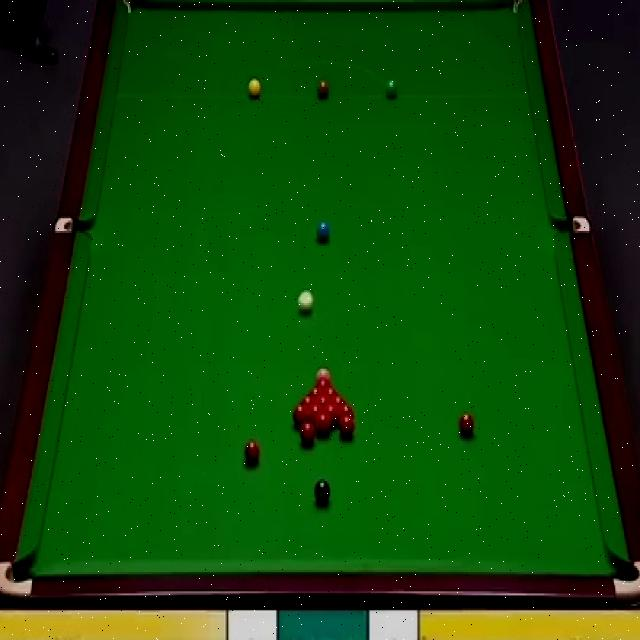black-ball: (314, 478, 331, 506)
blue-ball: (316, 220, 330, 240)
brown-ball: (316, 81, 330, 98)
green-ball: (384, 76, 399, 102)
pink-ball: (316, 368, 332, 385)
red-ball: (243, 438, 262, 466), (292, 402, 310, 428), (336, 416, 356, 439), (459, 411, 474, 438), (299, 420, 316, 443), (322, 405, 340, 424), (316, 412, 331, 434), (338, 404, 354, 424), (330, 393, 347, 409), (300, 393, 317, 408), (323, 384, 337, 400), (310, 406, 321, 426), (316, 394, 330, 409), (309, 385, 324, 399)
white-ball: (296, 290, 314, 310)
yellow-ball: (247, 78, 262, 100)
